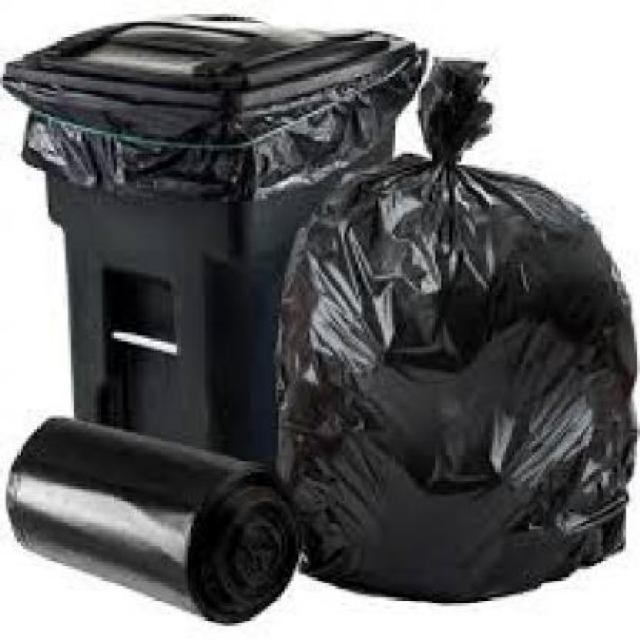garbage: (261, 63, 636, 604)
